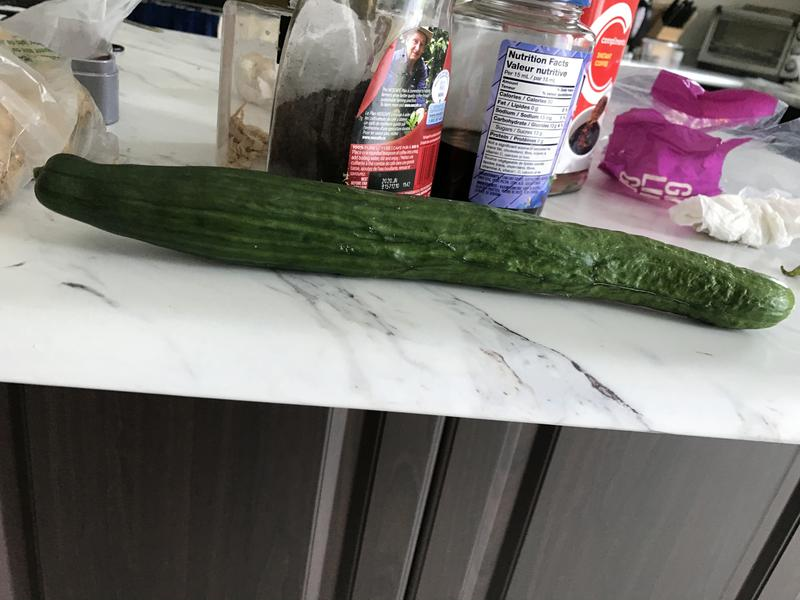cucumber: (26, 141, 798, 338)
